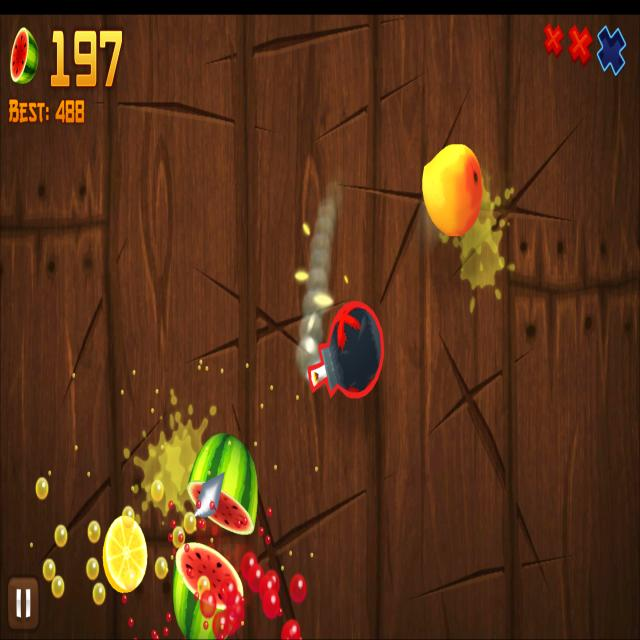bomb: (308, 301, 384, 398)
fruit: (422, 143, 481, 236)
